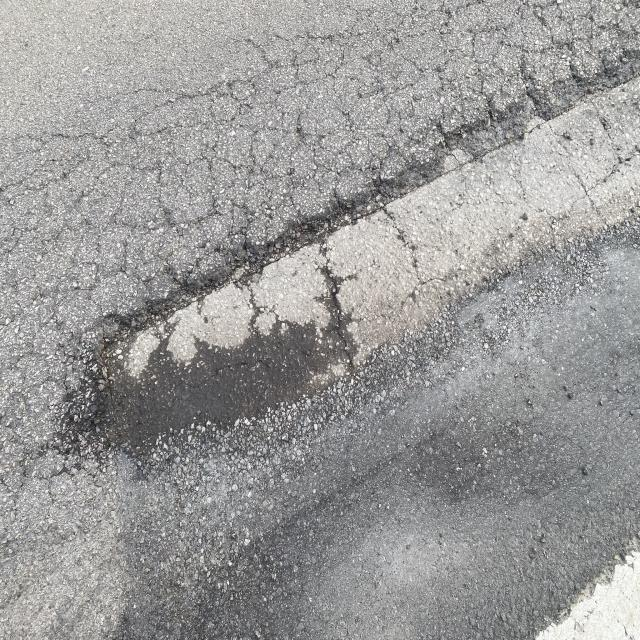pothole: (68, 192, 479, 472)
